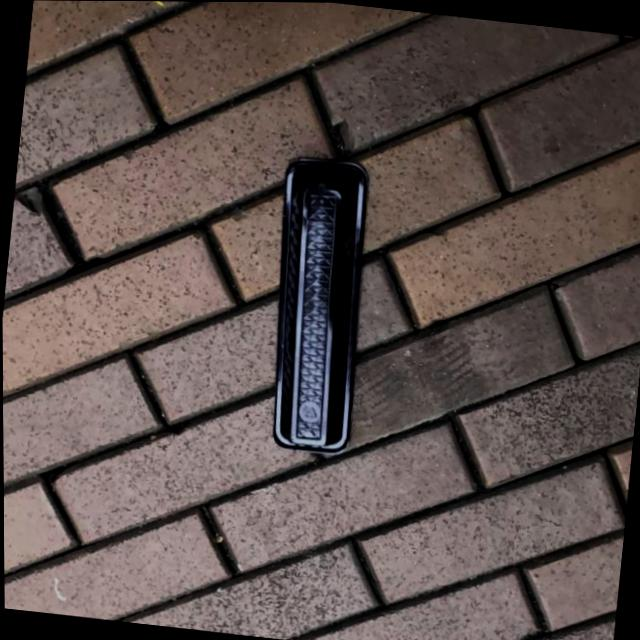Plastic: (253, 151, 382, 458)
